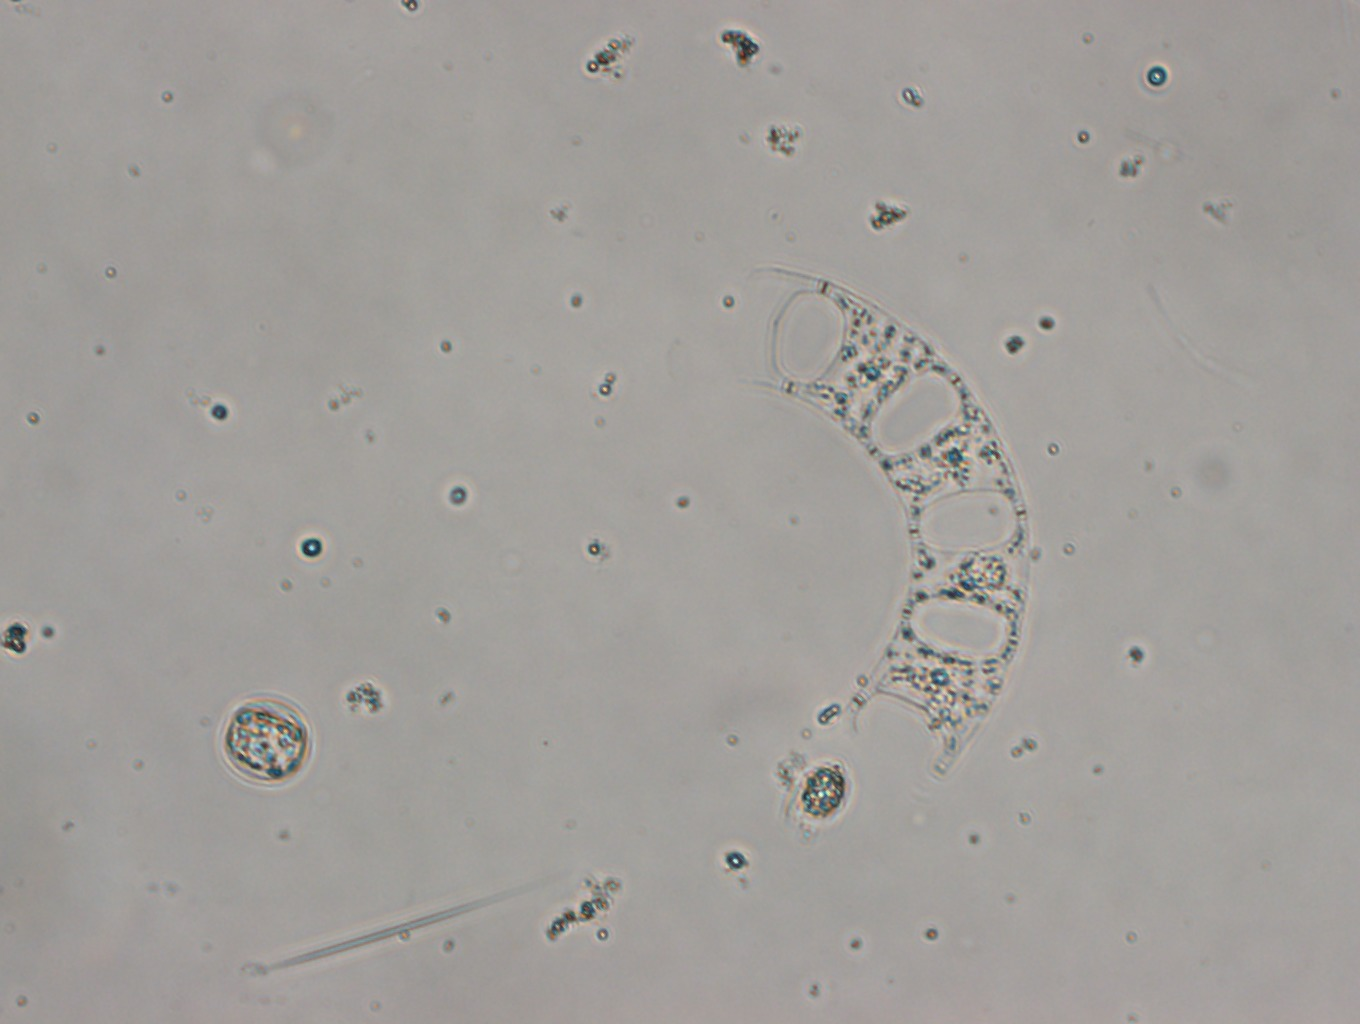eucampia: (727, 261, 1030, 784)
